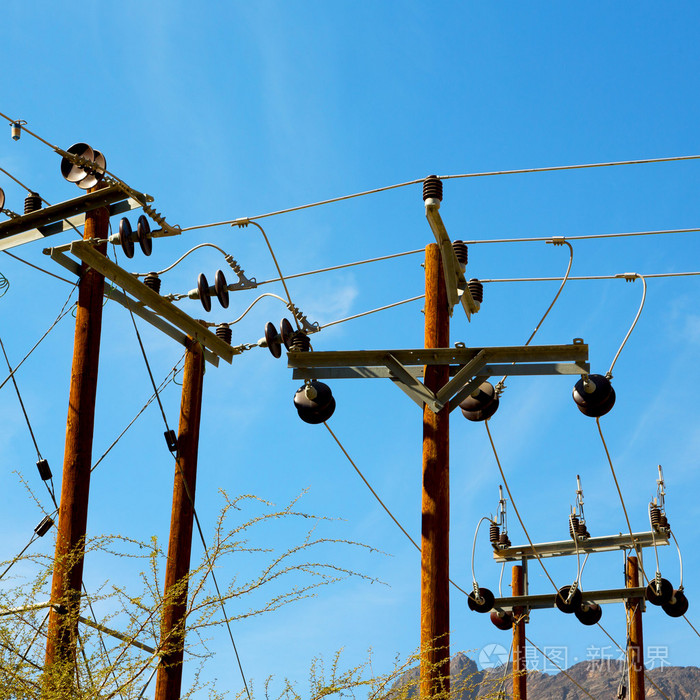insulator: (568, 374, 621, 420), (60, 142, 108, 188), (291, 383, 339, 425), (454, 379, 498, 423), (260, 316, 301, 362), (118, 216, 154, 263), (195, 270, 232, 313)
